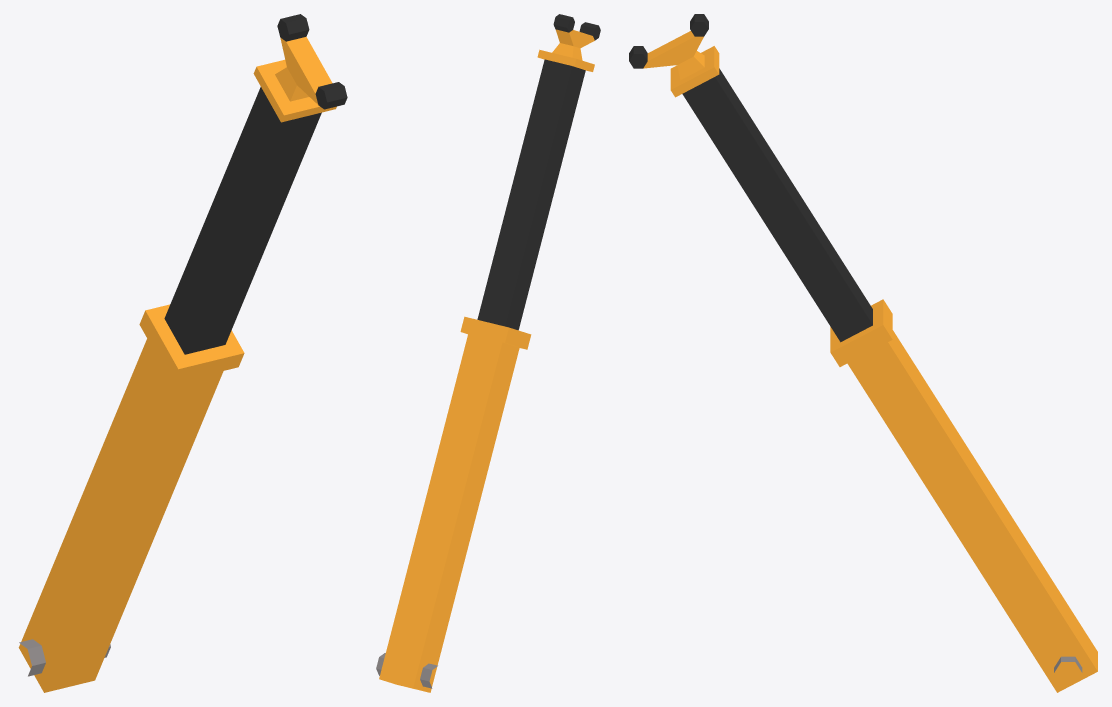
File: crane-crawler-arm.glb
3 views of the same model, side by side, from view 1: azimuth 30°, elevation 25°; view 2: azimuth 150°, elevation 25°; view 3: azimuth 270°, elevation 25° (orthographic). The views are drawn at different scales.
Parts seen in each view (by area): view 1: crane-crawler-arm; view 2: crane-crawler-arm; view 3: crane-crawler-arm.
Boxes of the visible parts, x1,y1,x2,y2 form: crane-crawler-arm: [18, 14, 347, 692]; crane-crawler-arm: [376, 14, 600, 692]; crane-crawler-arm: [629, 14, 1097, 692].
Size of the model in its own units: 0.778 by 7.82 by 4.99.
Materials: 1 (1 with a texture image).
